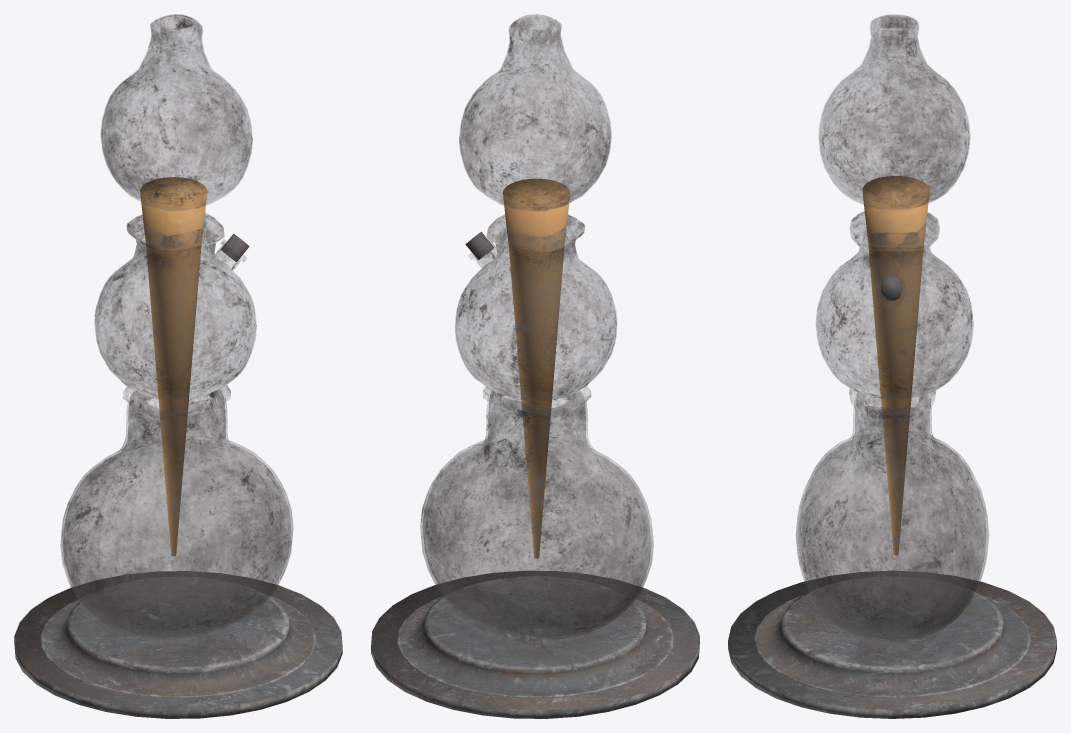
Rendered from laboratory_stuff_2.glb.
3 views of the same model, side by side, from view 1: azimuth 30°, elevation 25°; view 2: azimuth 150°, elevation 25°; view 3: azimuth 270°, elevation 25° (orthographic).
Parts seen in each view (by area): view 1: Cube.002; view 2: Cube.002; view 3: Cube.002.
Part boxes in pixels (x1,y1,x2,y2): Cube.002: (14, 14, 342, 718); Cube.002: (371, 14, 699, 718); Cube.002: (728, 14, 1056, 718).
Bounding box in the file's own units: 0.706 × 1.49 × 0.706.
2 materials, 2 textured.
